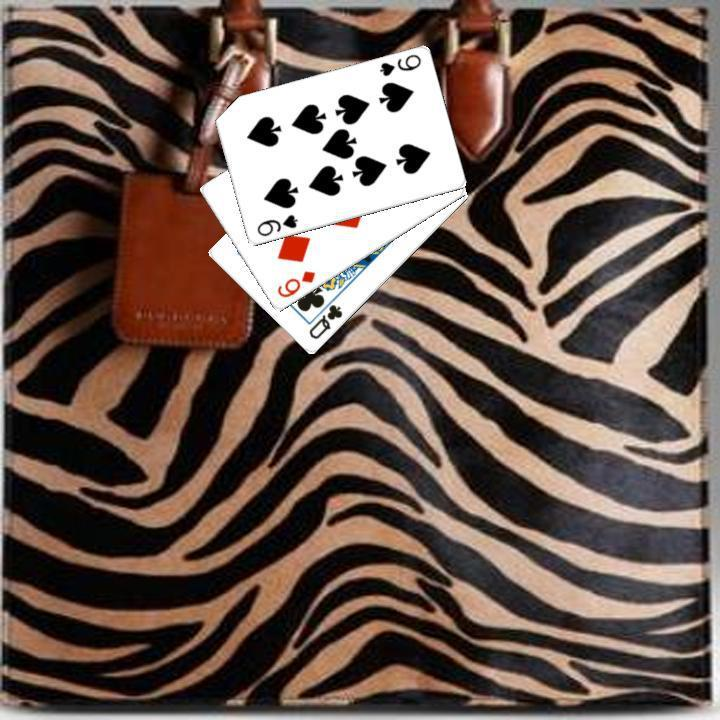6: (272, 266, 317, 300)
9: (252, 210, 300, 239), (375, 50, 423, 79)
Q: (304, 300, 344, 342)
